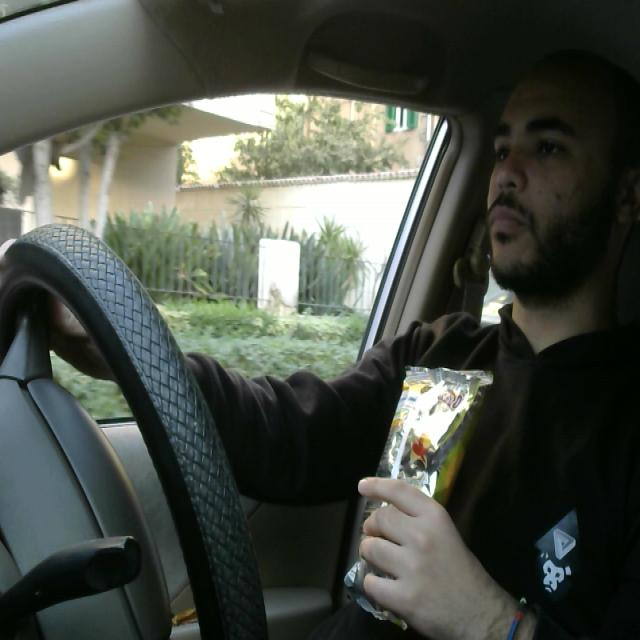eating: (339, 362, 499, 634)
